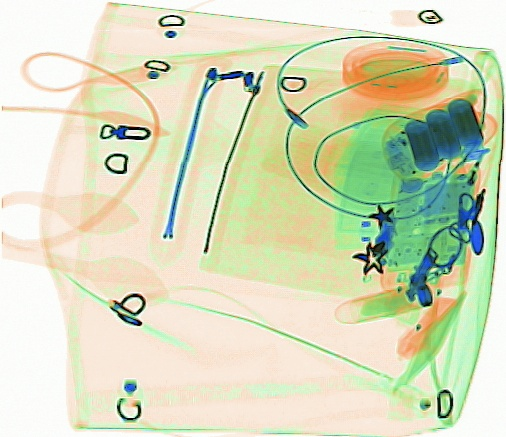lighter: (436, 139, 485, 220)
powerbank: (384, 95, 485, 172)
